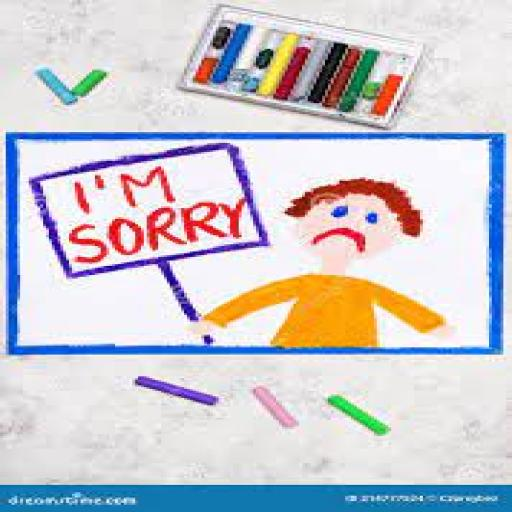person: (186, 177, 449, 353)
